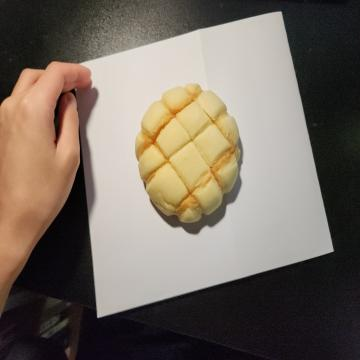melon_bread: (134, 83, 243, 226)
